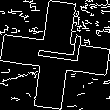L_W: (28, 36, 82, 74)
